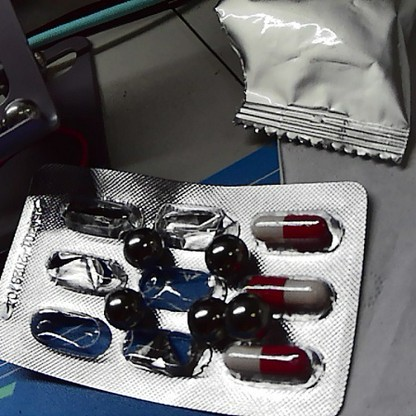ironball: (195, 225, 247, 278), (96, 282, 147, 329), (223, 289, 267, 337), (185, 292, 228, 340), (123, 226, 163, 275), (0, 90, 43, 130)
